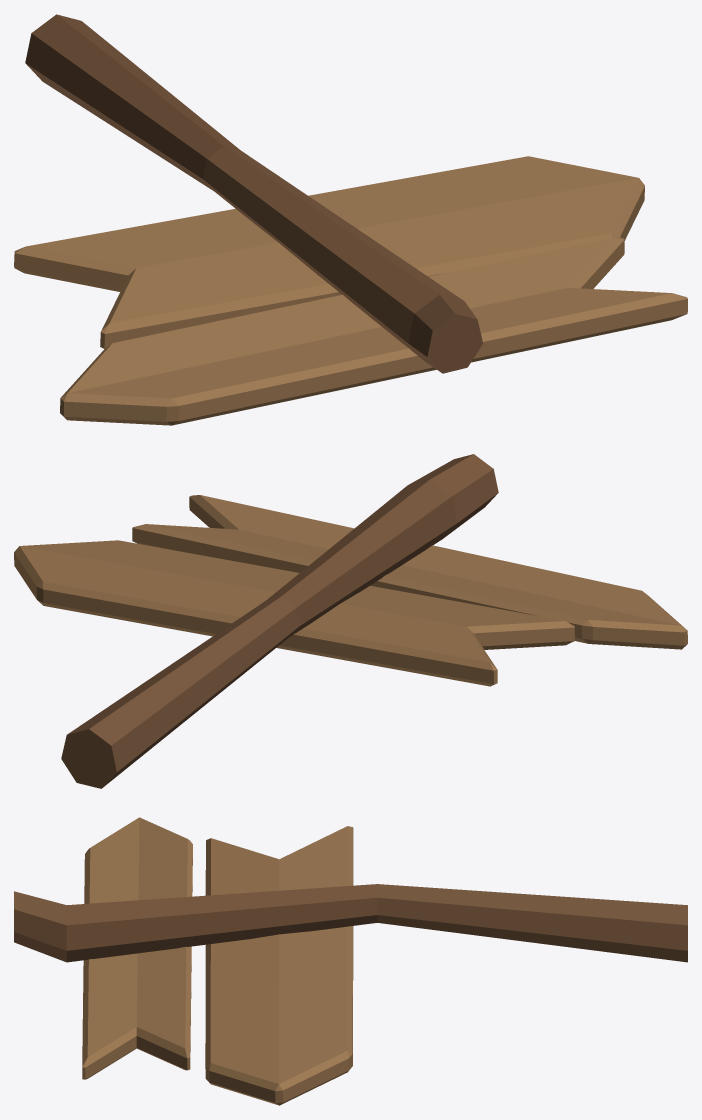
Rendered from Panel_08.fbx.
The picture shows the model from 3 angles, top to bottom: view 1: azimuth 30°, elevation 25°; view 2: azimuth 150°, elevation 25°; view 3: azimuth 270°, elevation 25°; orthographic projection. The views are drawn at different scales.
Visible parts, largest first — view 1: Poteau 1*2 fleches LOW Petit.004; view 2: Poteau 1*2 fleches LOW Petit.004; view 3: Poteau 1*2 fleches LOW Petit.004.
Boxes of the visible parts, box(x1,y1,x2,y2) form: Poteau 1*2 fleches LOW Petit.004: box(14, 14, 687, 425); Poteau 1*2 fleches LOW Petit.004: box(14, 454, 687, 788); Poteau 1*2 fleches LOW Petit.004: box(14, 817, 687, 1105).
Bounding box in the file's own units: 73.88 × 11.54 × 79.73.
